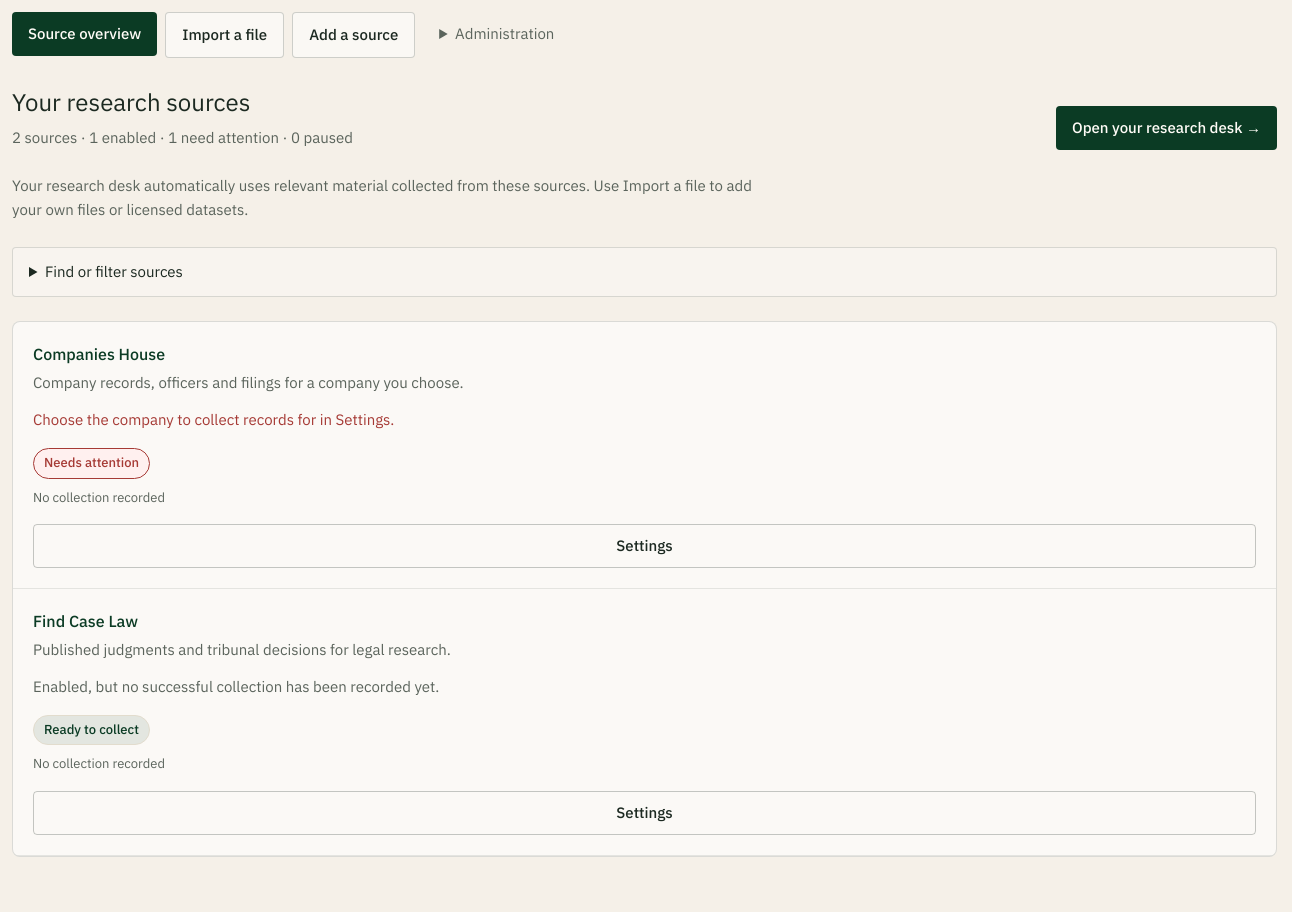
Test: shows unavailable document records only on request and preserves the collection limit
This screenshot has width=1292, height=912.
Step 1. Click the heading "Administration" → [505, 34], box [455,24,554,43]
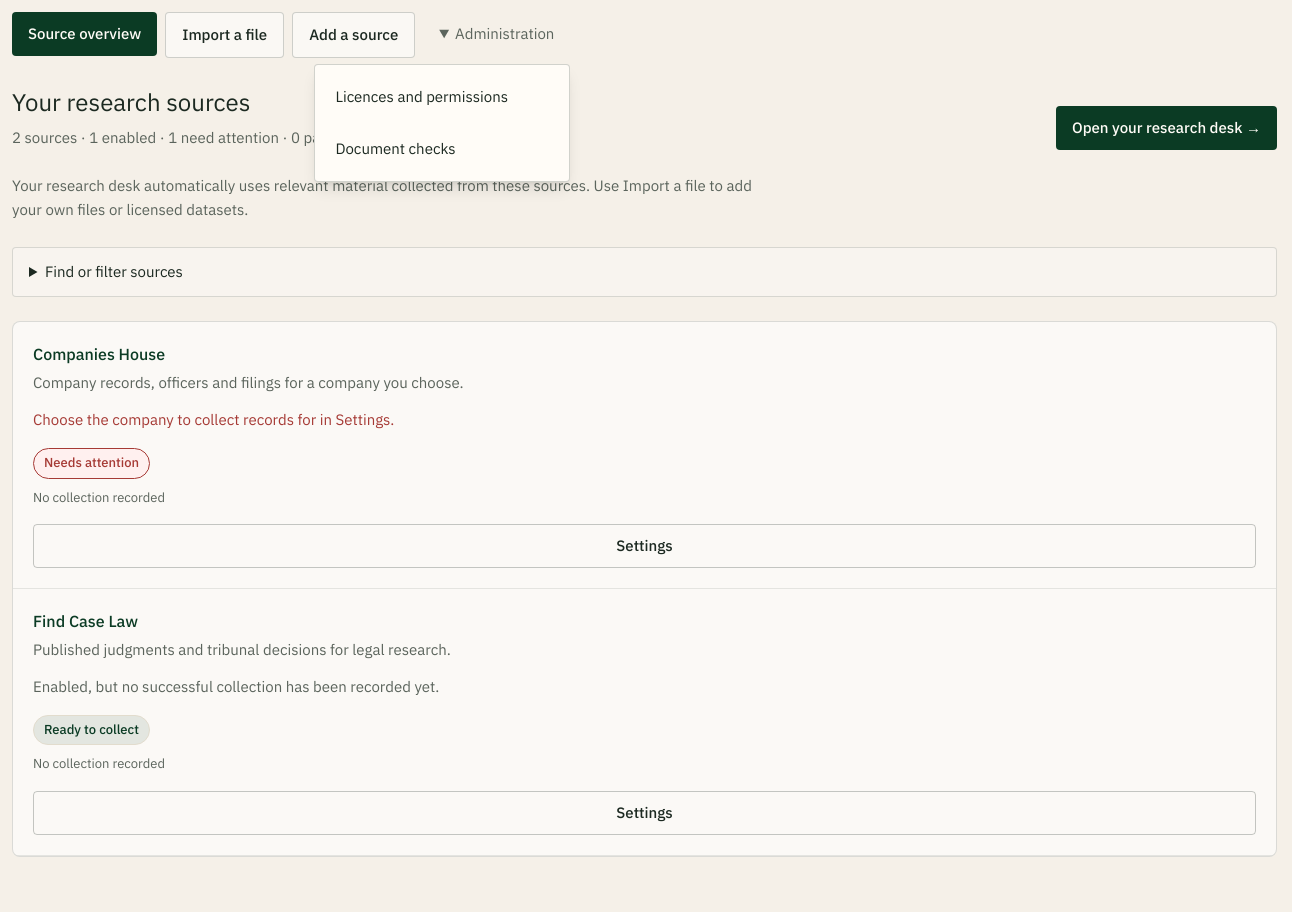
Step 2. Click the button "Document checks" → [442, 149], box [323,125,561,173]
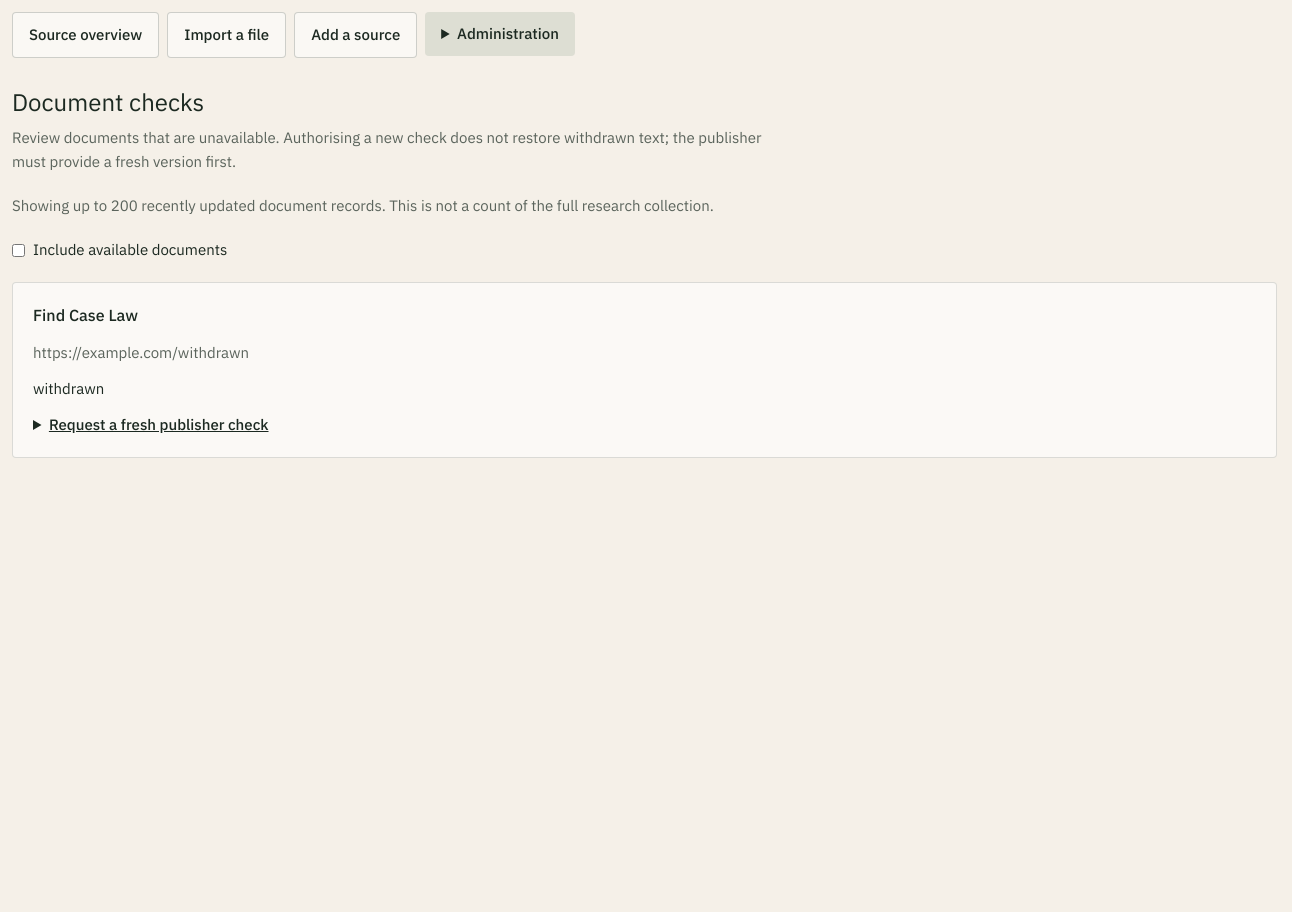
Expected: the text "https://example.com/available" is not shown
Result: the text "https://example.com/withdrawn" is shown at [33,343,249,362]
Result: the text "up to 200 recently updated" is shown at [12,196,714,215]
Step 3. Click the checkbox labelled "Include available documents" → [18, 250], box [12,244,25,256]
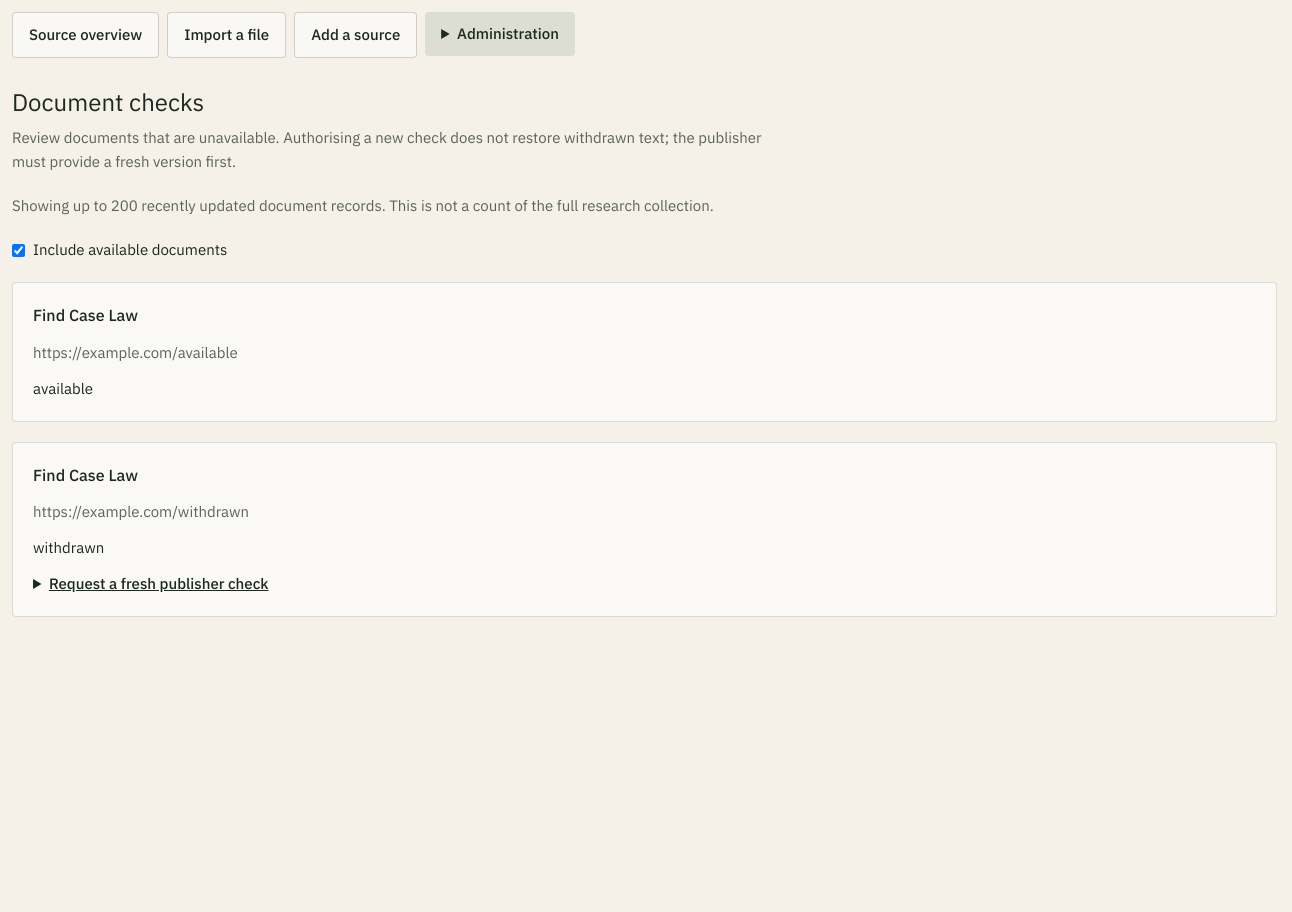
Result: the text "https://example.com/available" is shown at [33,343,238,362]
